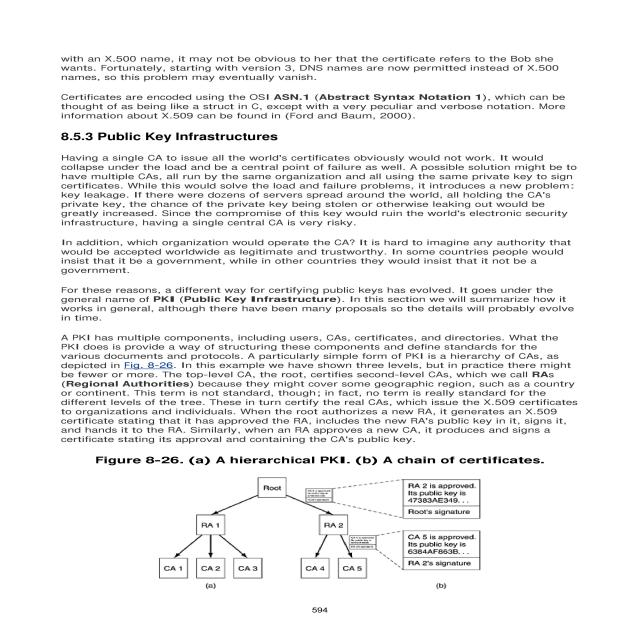diagram: (0, 451, 596, 602)
